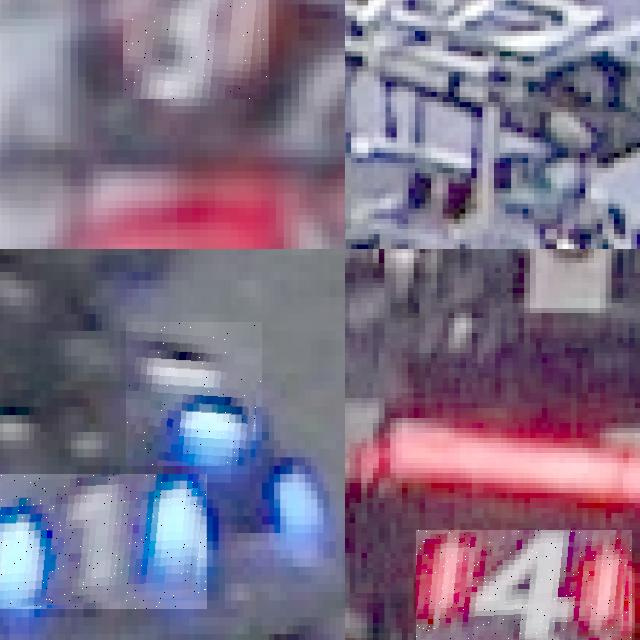B1: (0, 474, 206, 608), (126, 322, 262, 466)
R3: (123, 0, 268, 99)
R4: (416, 530, 631, 640)
